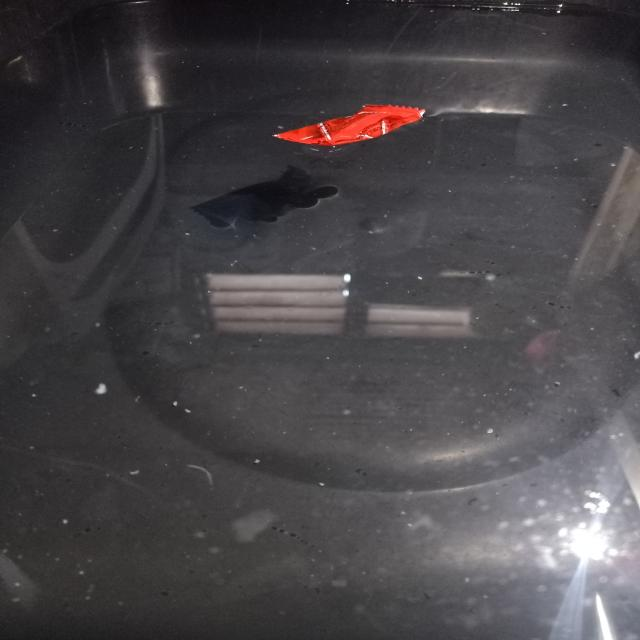Plastic Wrapper: (276, 105, 425, 145)
